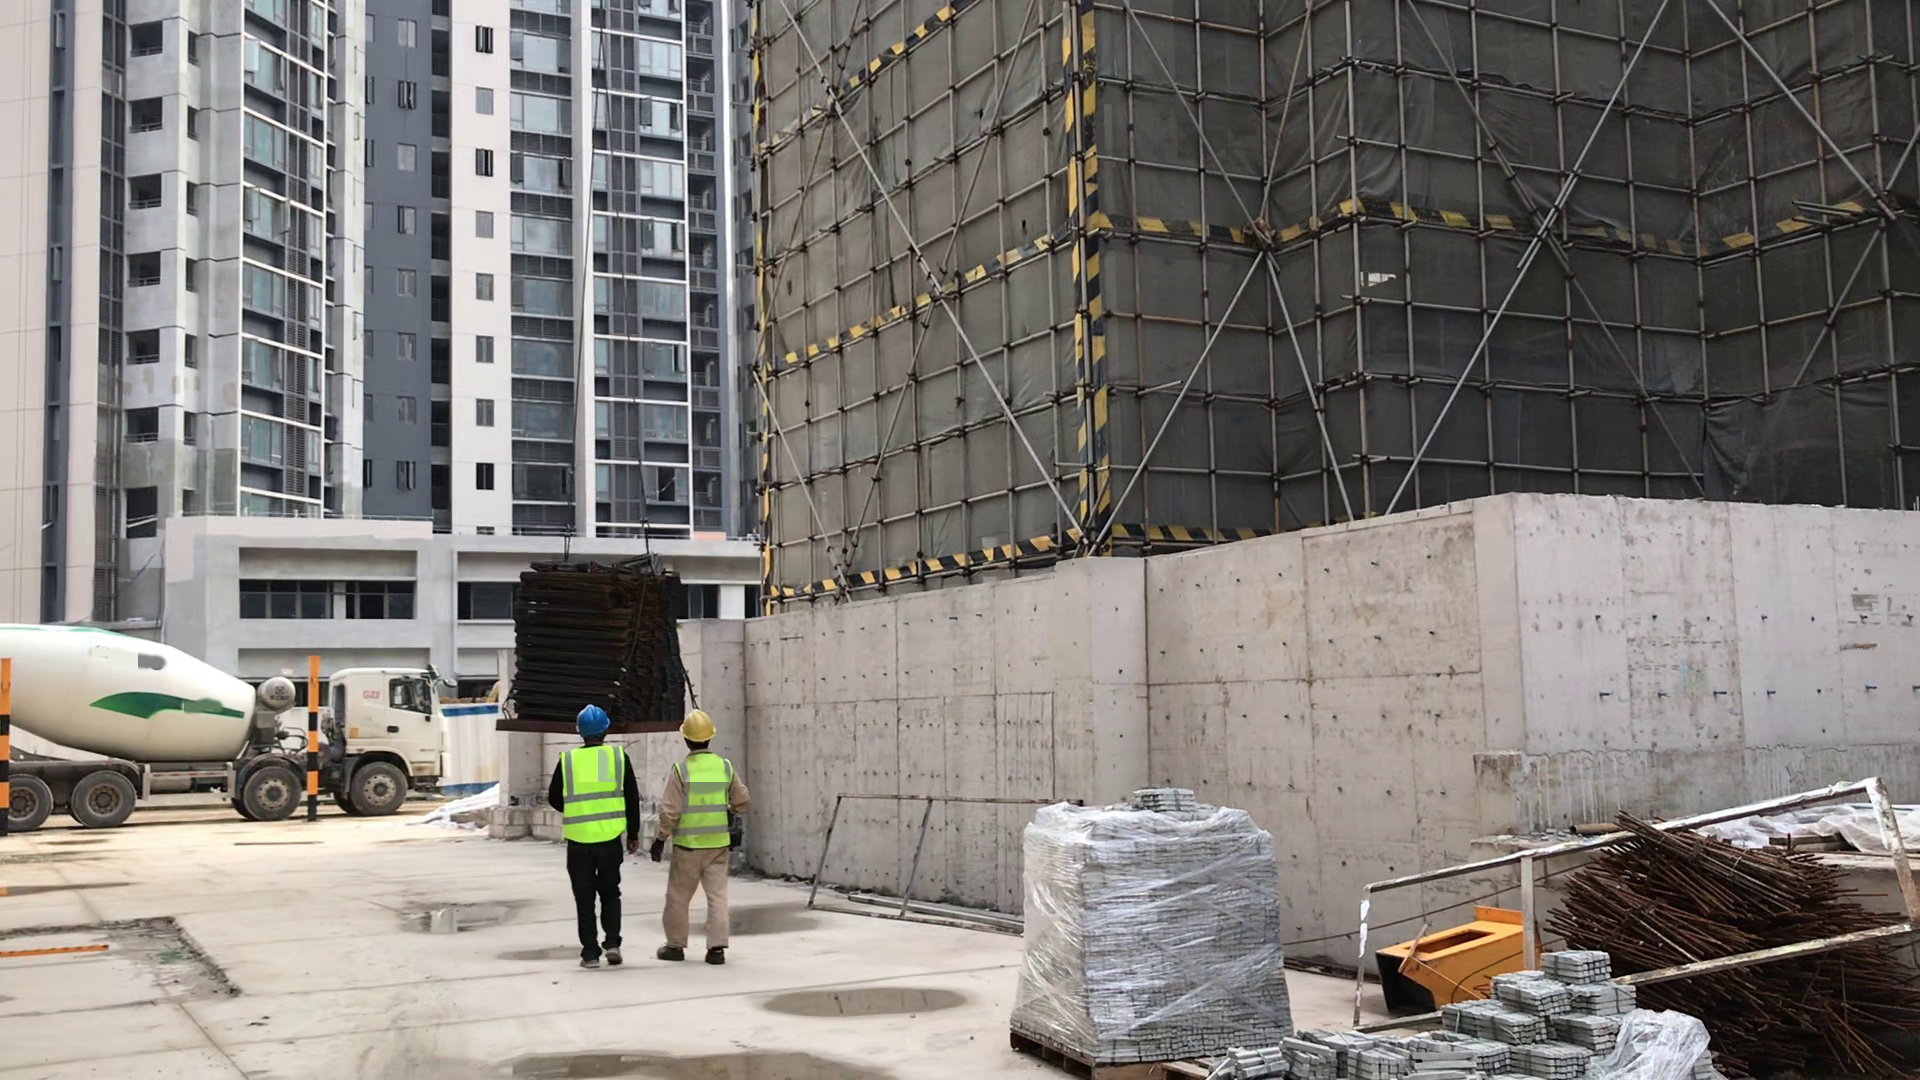helmet: (561, 700, 622, 752), (672, 709, 732, 749)
person: (543, 700, 644, 969), (656, 714, 743, 968)
vest: (557, 752, 624, 836), (679, 751, 738, 847)
